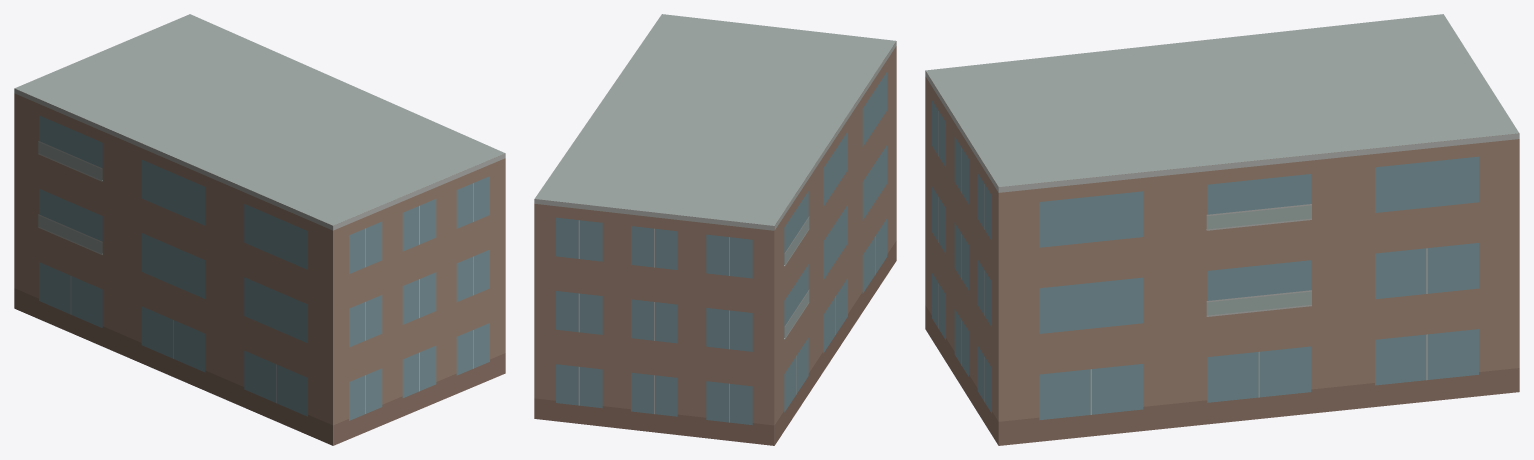
File: survey-upis-32981633.glb
3 views of the same model, side by side, from view 1: azimuth 30°, elevation 25°; view 2: azimuth 150°, elevation 25°; view 3: azimuth 270°, elevation 25° (orthographic). The views are drawn at different scales.
Visible parts, largest first — view 1: survey-upis-32981633.tmp; view 2: survey-upis-32981633.tmp; view 3: survey-upis-32981633.tmp.
Part boxes in pixels (x1=…): survey-upis-32981633.tmp: x1=14, y1=14, x2=505, y2=445; survey-upis-32981633.tmp: x1=534, y1=14, x2=896, y2=445; survey-upis-32981633.tmp: x1=925, y1=14, x2=1519, y2=445.
Bounding box in the file's own units: 15.94 × 11.1 × 23.11.
